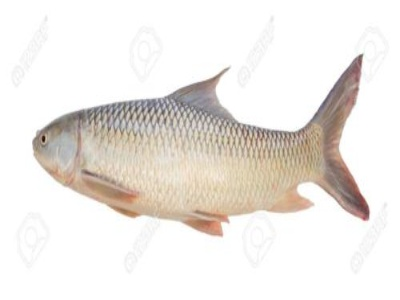rohu: (25, 58, 385, 241)
